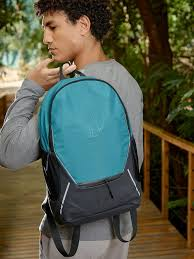backpack: (37, 69, 143, 256)
